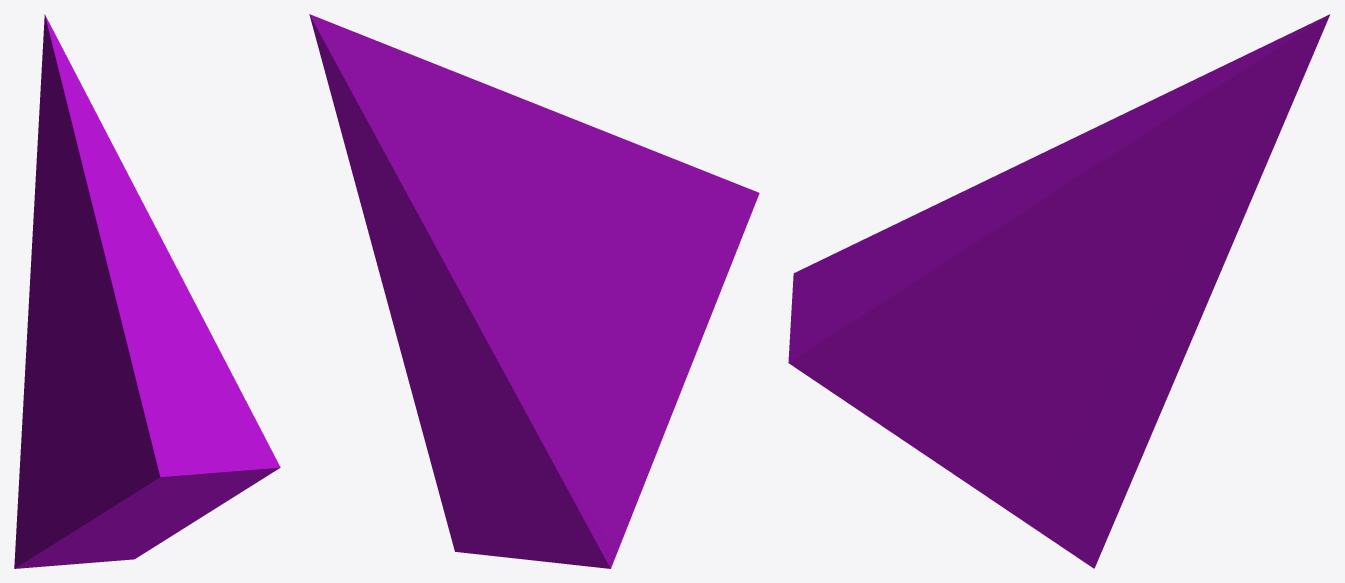
The model's file is player_rightArm_next.obj.
The picture shows the model from 3 angles, left to right: view 1: azimuth 30°, elevation 25°; view 2: azimuth 150°, elevation 25°; view 3: azimuth 270°, elevation 25°; orthographic projection. The views are drawn at different scales.
Visible parts, largest first — view 1: rightArm_next; view 2: rightArm_next; view 3: rightArm_next.
Part boxes in pixels (left/top/right/bottom): rightArm_next: left=14, top=14, right=280, bottom=568; rightArm_next: left=309, top=14, right=759, bottom=568; rightArm_next: left=788, top=14, right=1330, bottom=568.
Bounding box in the file's own units: 0.099 × 0.3278 × 0.2874.
